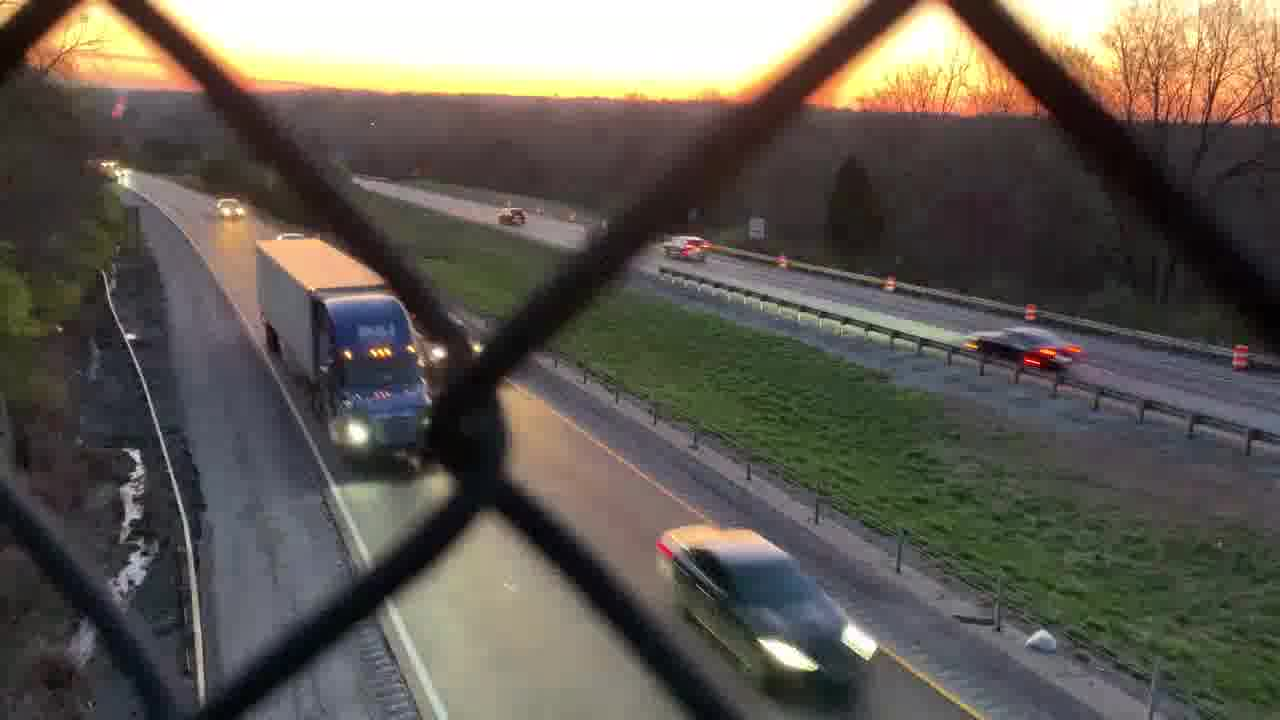heavyTruck: (252, 232, 436, 477)
smallCar: (647, 518, 879, 708), (966, 325, 1074, 372)
